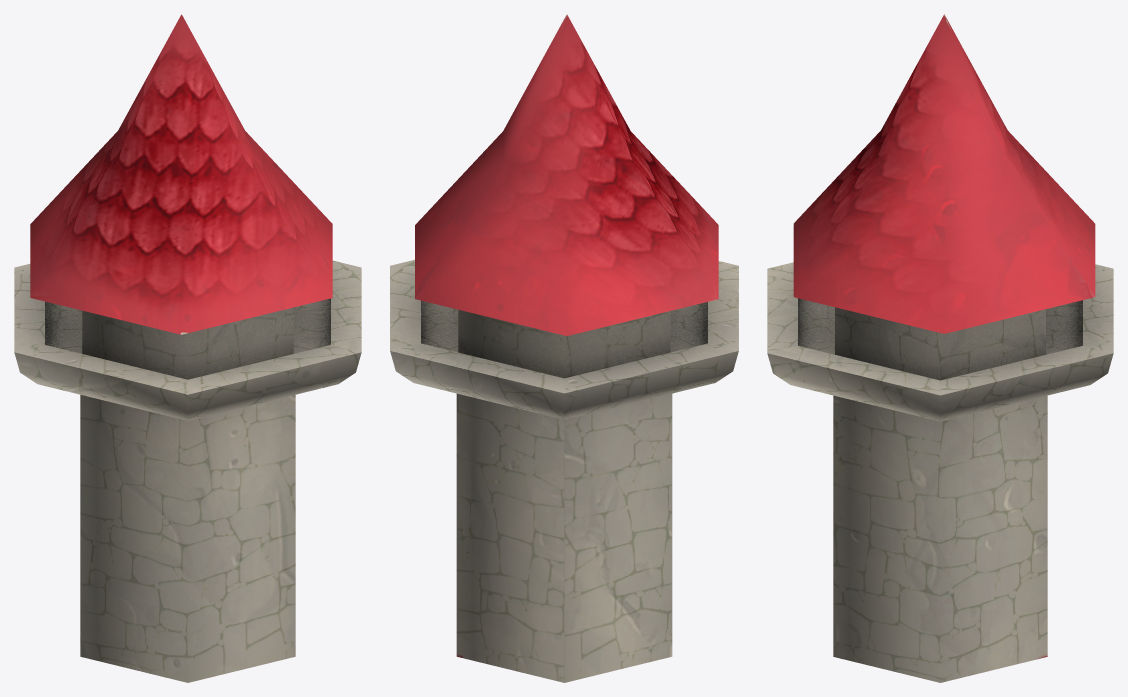
File: Castillo_torre_central.fbx
3 renders of one model, left to right at view 1: azimuth 30°, elevation 25°; view 2: azimuth 150°, elevation 25°; view 3: azimuth 270°, elevation 25°, orthographic.
Parts seen in each view (by area): view 1: Obj_torre_central; view 2: Obj_torre_central; view 3: Obj_torre_central.
Part boxes in pixels (x1=…): Obj_torre_central: x1=14, y1=14, x2=361, y2=682; Obj_torre_central: x1=390, y1=14, x2=738, y2=682; Obj_torre_central: x1=767, y1=14, x2=1113, y2=682.
Size of the model in its own units: 1394 by 2362 by 1207.
